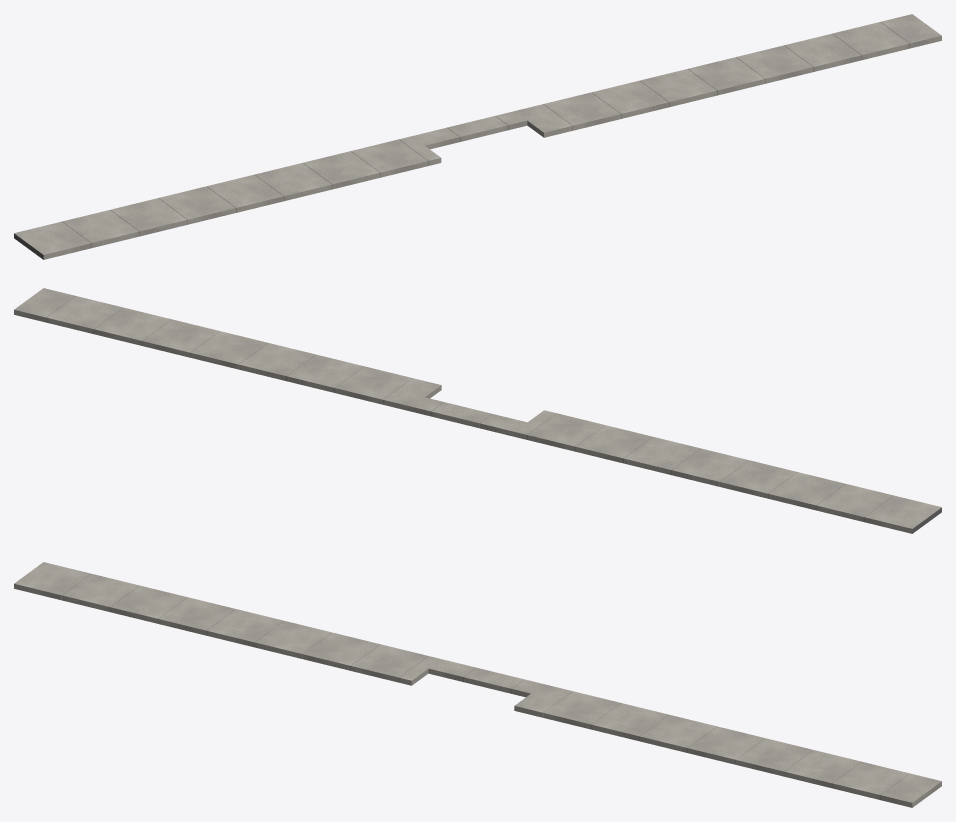
File: sidewalk.glb
The picture shows the model from 3 angles, top to bottom: view 1: azimuth 30°, elevation 25°; view 2: azimuth 150°, elevation 25°; view 3: azimuth 330°, elevation 25°; orthographic projection.
Visible parts, largest first — view 1: sidewalk_concrete; view 2: sidewalk_concrete; view 3: sidewalk_concrete.
Part boxes in pixels (<box>): sidewalk_concrete: <box>14,14,941,259</box>; sidewalk_concrete: <box>14,288,941,533</box>; sidewalk_concrete: <box>14,562,941,807</box>.
Size of the model in its own units: 28 by 0.15 by 1.6.
2 materials, 1 textured.
